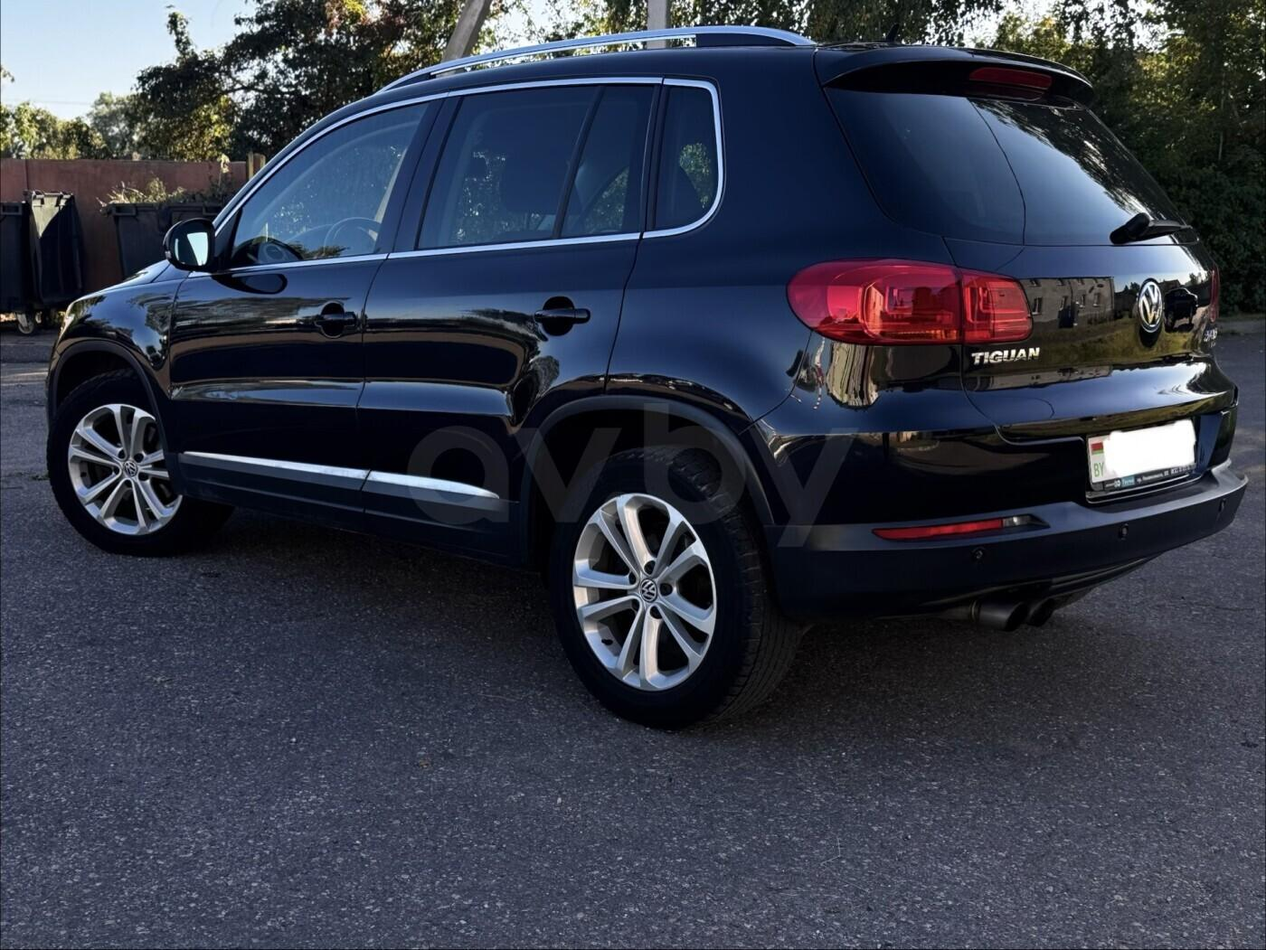Tiguan_2011-2018: (40, 39, 1248, 721)
